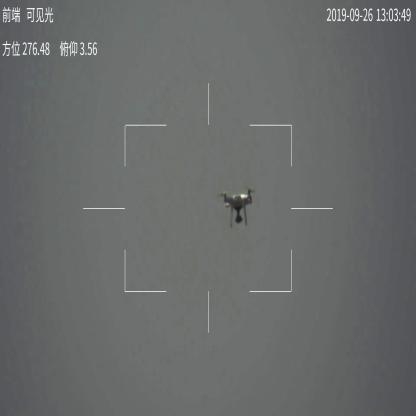uav: (214, 182, 255, 227)
